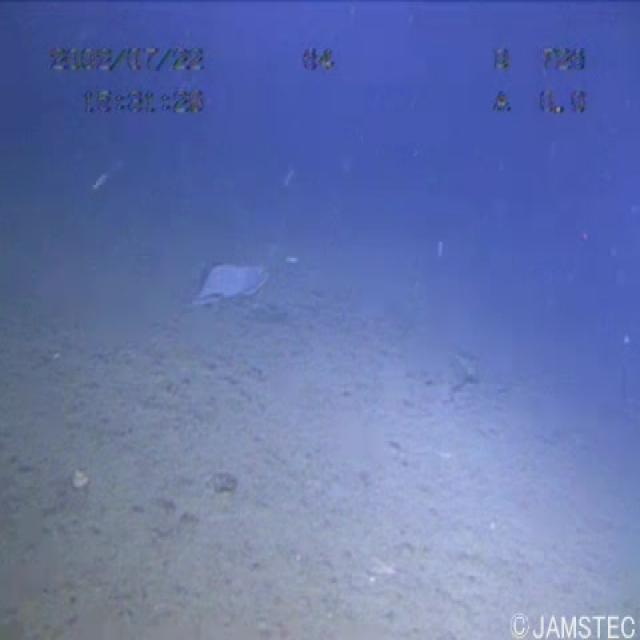plastic: (180, 242, 307, 338)
